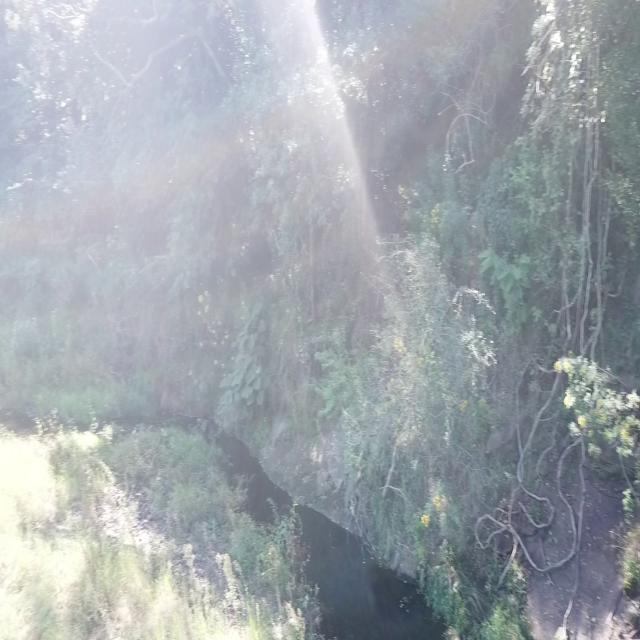Mysore-Thorn-Weed: (475, 239, 531, 291)
